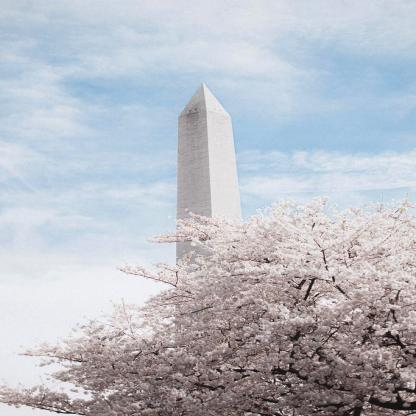Someiyoshino: (1, 186, 413, 414)
